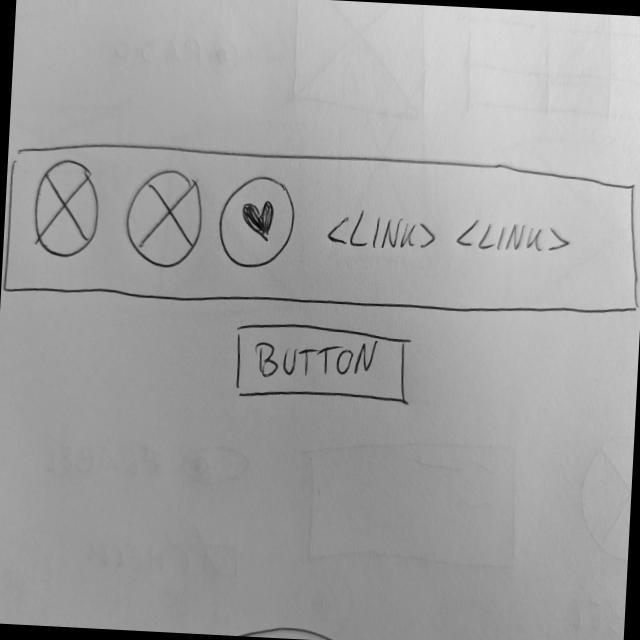button: (231, 318, 414, 411)
container: (1, 133, 640, 327)
icon-button: (214, 171, 298, 272)
image: (122, 166, 208, 273), (31, 156, 102, 259)
link: (324, 204, 438, 256), (454, 214, 576, 260)
